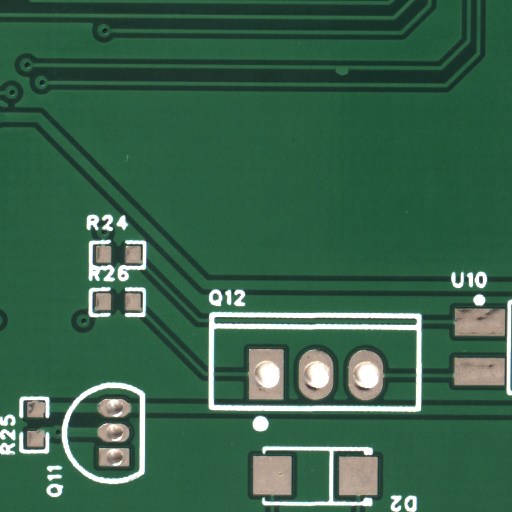Spur: (342, 70, 357, 79)
